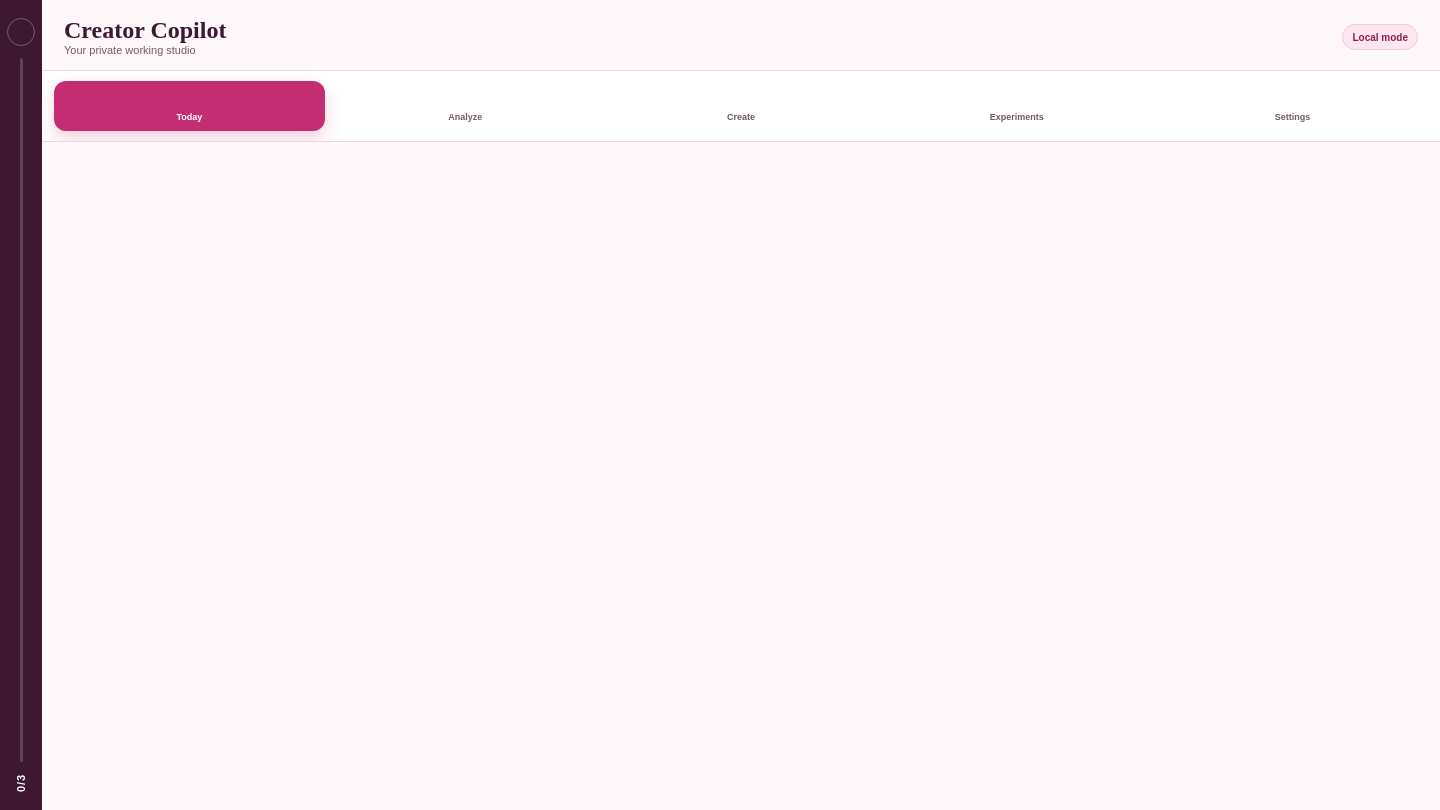
Test: App › previews extracted context before creating drafts
The width and height of the screenshot is (1440, 810).
What coordinates should you click on to do the following:
click the button "Analyze"
I would click on:
 (465, 116)
Its box is [330, 81, 601, 131].
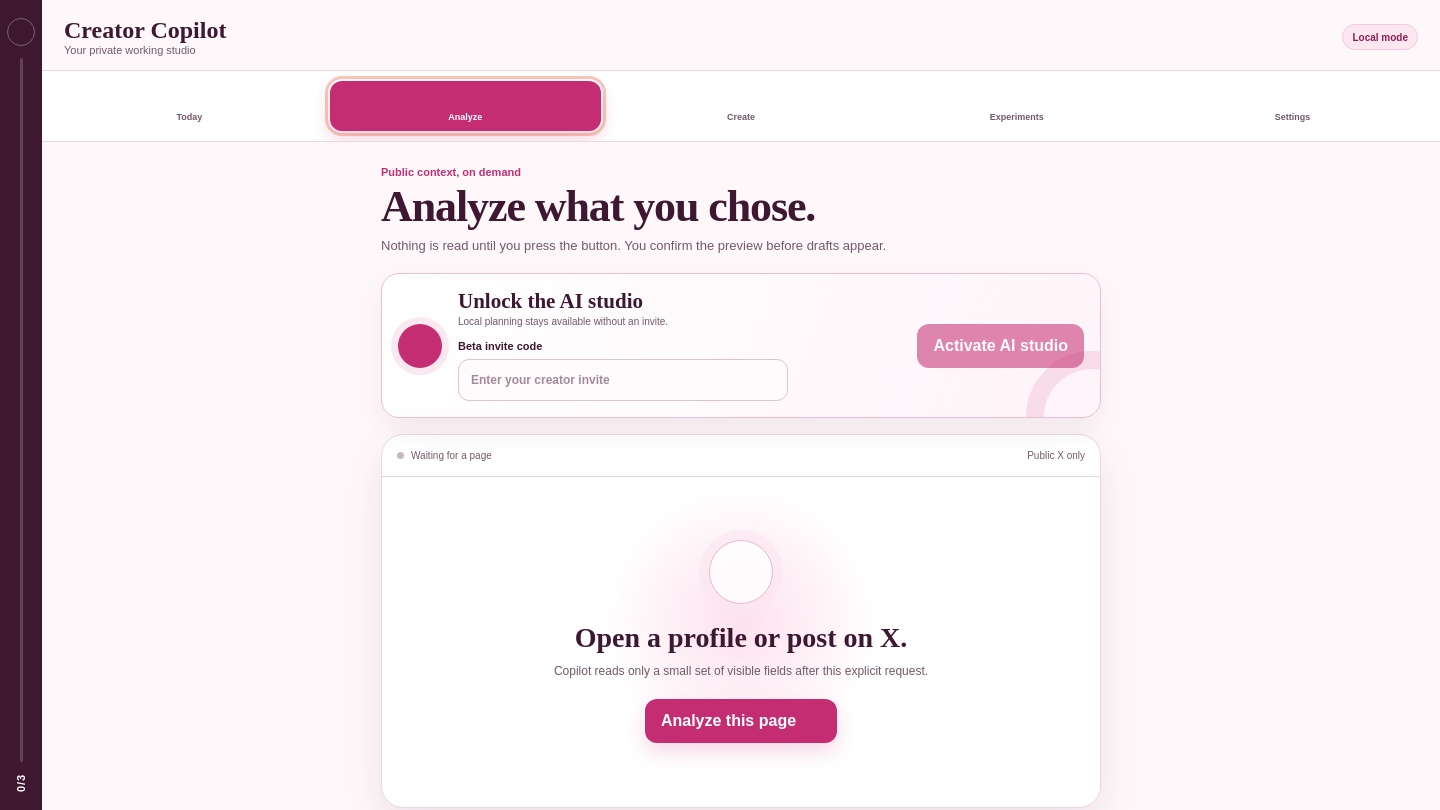
What coordinates should you click on to do the following:
click the button "Analyze this page"
I would click on:
 (741, 721)
Its box is [645, 699, 837, 743].
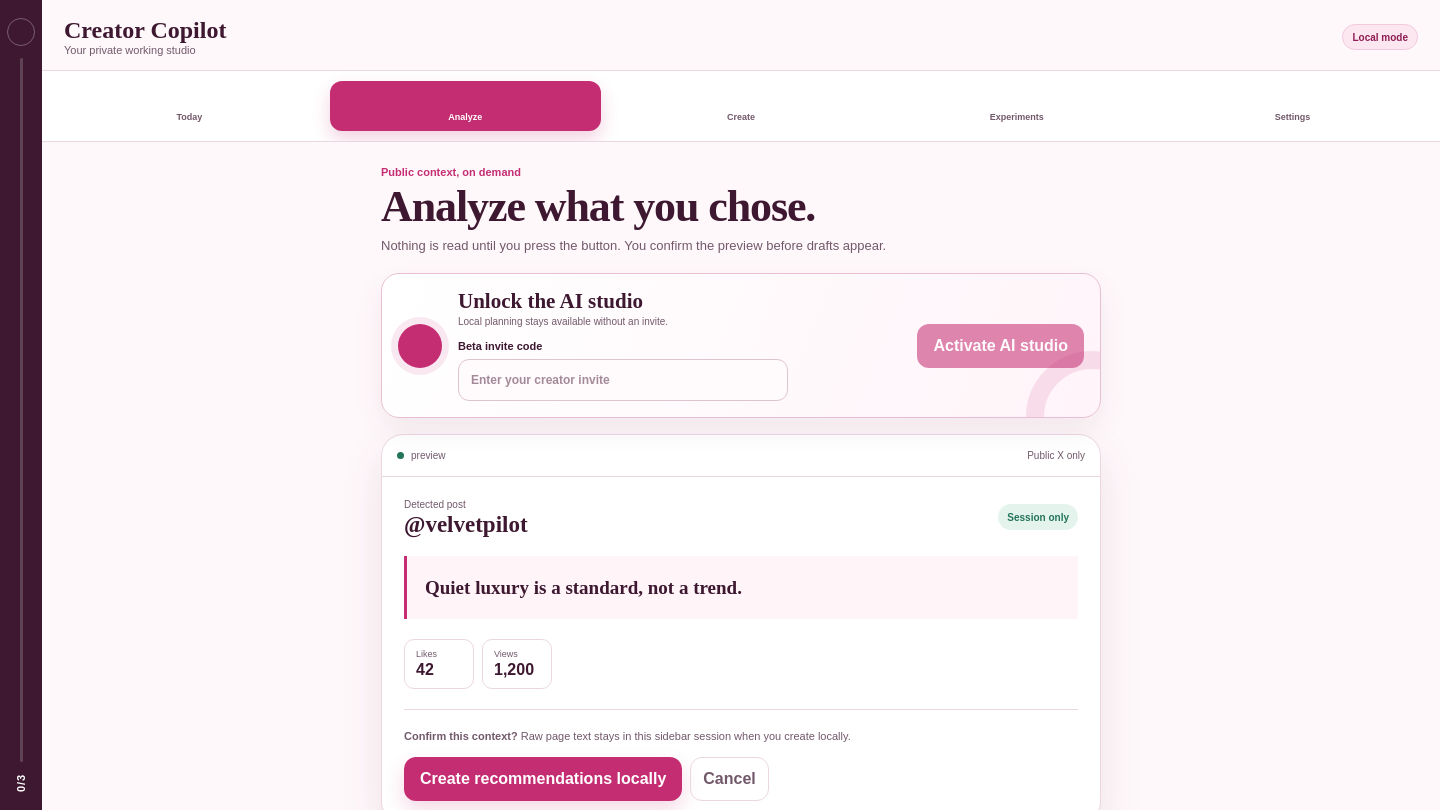
Expected: the text "Quiet luxury is a standard, not a trend." is shown, [404, 556, 1078, 619]
Expected: the button "Create recommendations locally" is shown, [404, 757, 682, 801]
